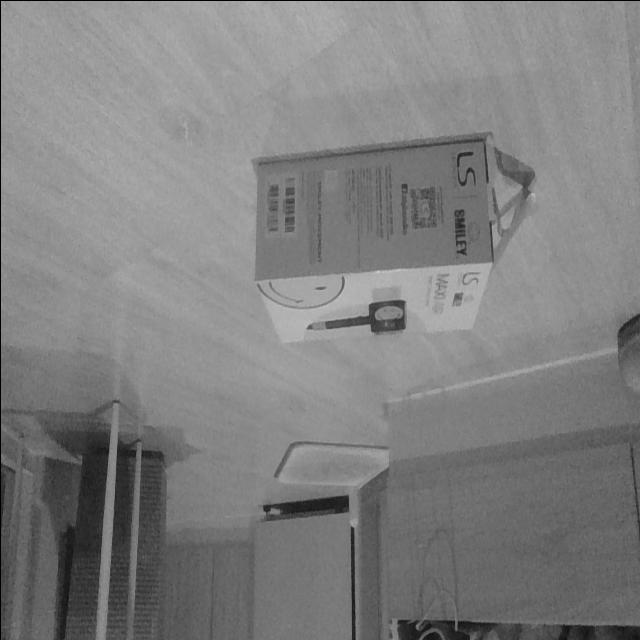Dryer: (193, 111, 549, 377)
